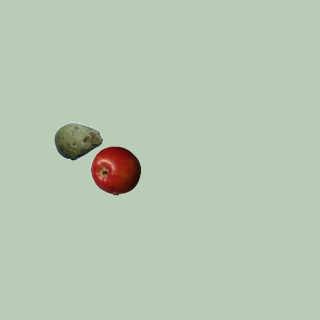Apple Braeburn: (90, 145, 140, 195)
Pear Stone: (53, 116, 103, 166)
